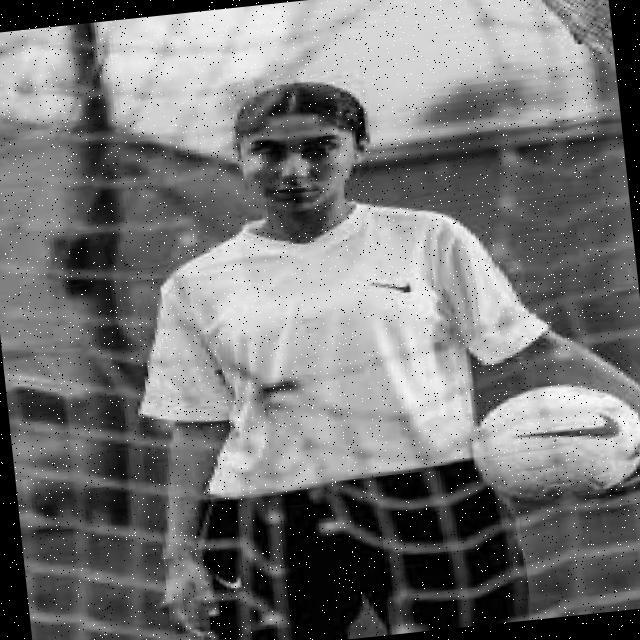Nike: (505, 406, 630, 447), (365, 268, 425, 302)
